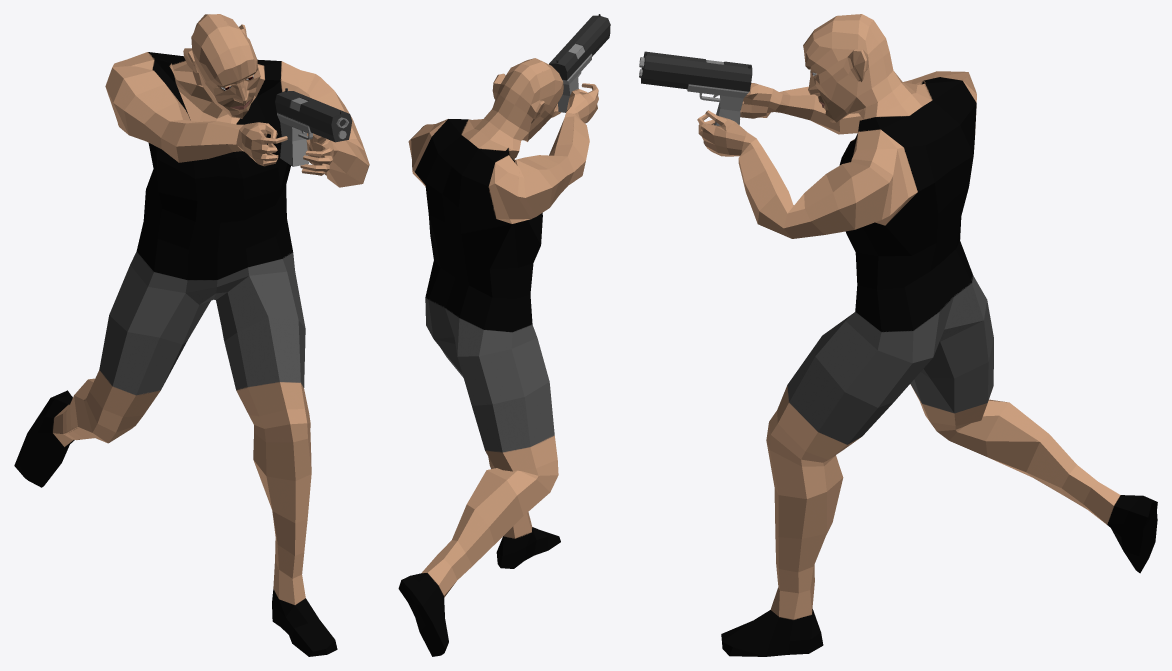
The model's file is PlayerWalk(7).obj.
3 renders of one model, left to right at view 1: azimuth 30°, elevation 25°; view 2: azimuth 150°, elevation 25°; view 3: azimuth 270°, elevation 25°, orthographic. The views are drawn at different scales.
Parts seen in each view (by area): view 1: Plane002, Box003; view 2: Plane002, Box003; view 3: Plane002, Box003.
Part boxes in pixels (x1=…): Plane002: x1=14, y1=14, x2=369, y2=656; Box003: x1=275, y1=88, x2=352, y2=166; Plane002: x1=398, y1=58, x2=598, y2=656; Box003: x1=549, y1=14, x2=610, y2=112; Plane002: x1=697, y1=14, x2=1157, y2=656; Box003: x1=639, y1=51, x2=752, y2=125.
Bounding box in the file's own units: 604 × 1691 × 1302.
